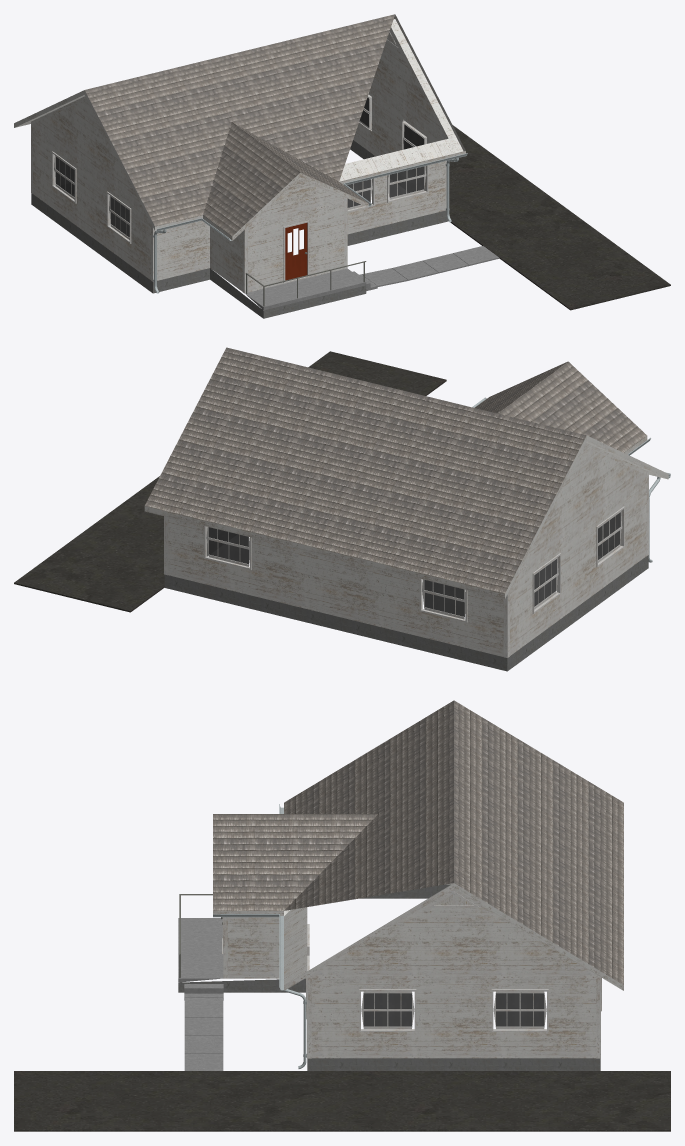
Rendered from oldHouse.glb.
3 views of the same model, one above another, from view 1: azimuth 30°, elevation 25°; view 2: azimuth 150°, elevation 25°; view 3: azimuth 270°, elevation 25° (orthographic). The views are drawn at different scales.
Parts seen in each view (by area): view 1: Material2 (×9); view 2: Material2 (×5); view 3: Material2 (×7).
Boxes of the visible parts, box(x1,y1,x2,y2) form: Material2 (×9): box(14, 14, 670, 318); Material2 (×5): box(14, 347, 668, 671); Material2 (×7): box(14, 700, 670, 1131).
Size of the model in its own units: 10.26 by 3.91 by 12.
11 materials, 9 textured.
